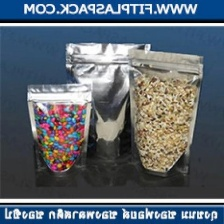snack: (60, 36, 155, 167), (123, 44, 211, 181), (23, 77, 97, 180)
